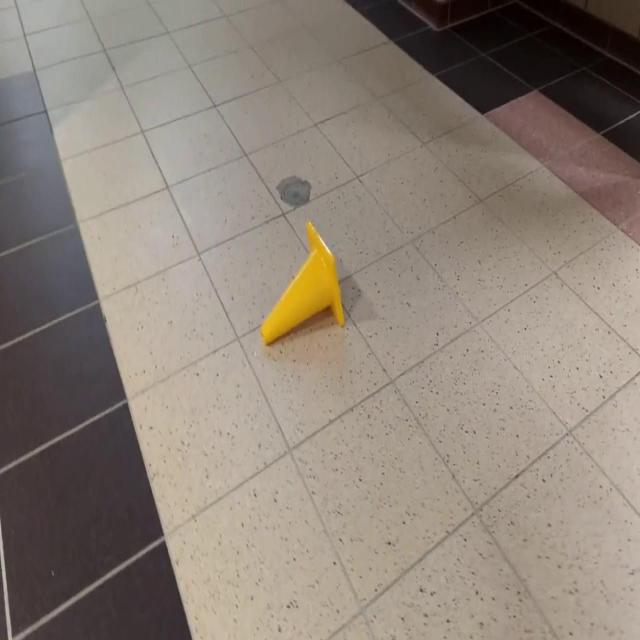frc_cone: (259, 220, 347, 346)
